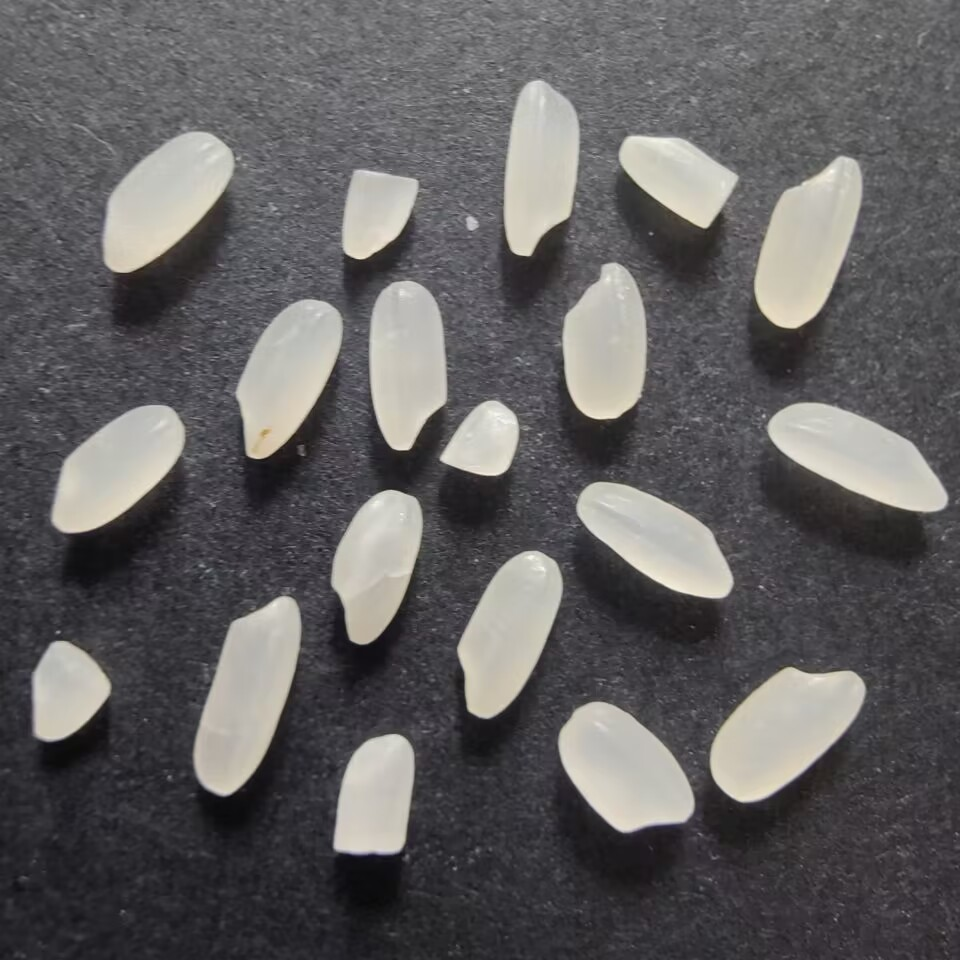broken: (322, 727, 431, 867), (613, 128, 746, 235), (26, 638, 116, 746), (336, 166, 426, 265), (433, 391, 528, 478)
rice: (703, 658, 876, 807), (189, 592, 311, 803), (762, 397, 956, 519), (748, 145, 871, 332), (570, 477, 740, 609), (97, 127, 242, 280), (448, 544, 571, 724), (555, 696, 702, 840), (47, 399, 191, 540), (232, 296, 349, 463), (495, 74, 589, 265), (326, 481, 428, 651), (556, 256, 651, 426), (366, 278, 451, 459)
